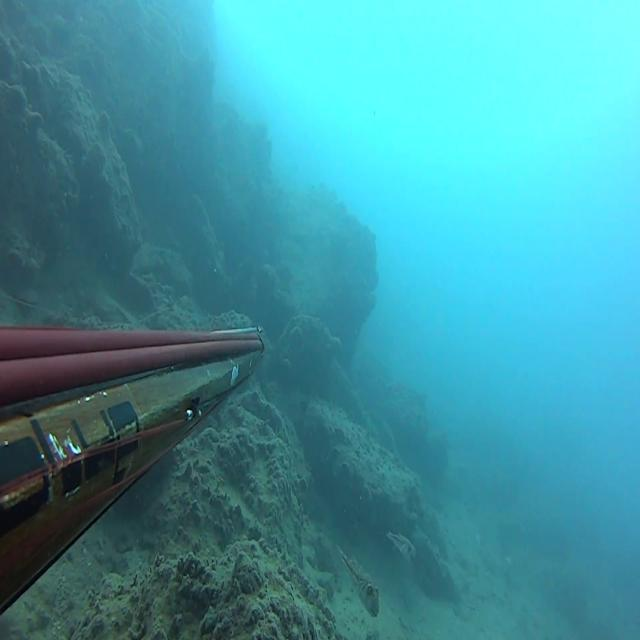Balon Baligi: (336, 543, 379, 618), (386, 531, 416, 565)
